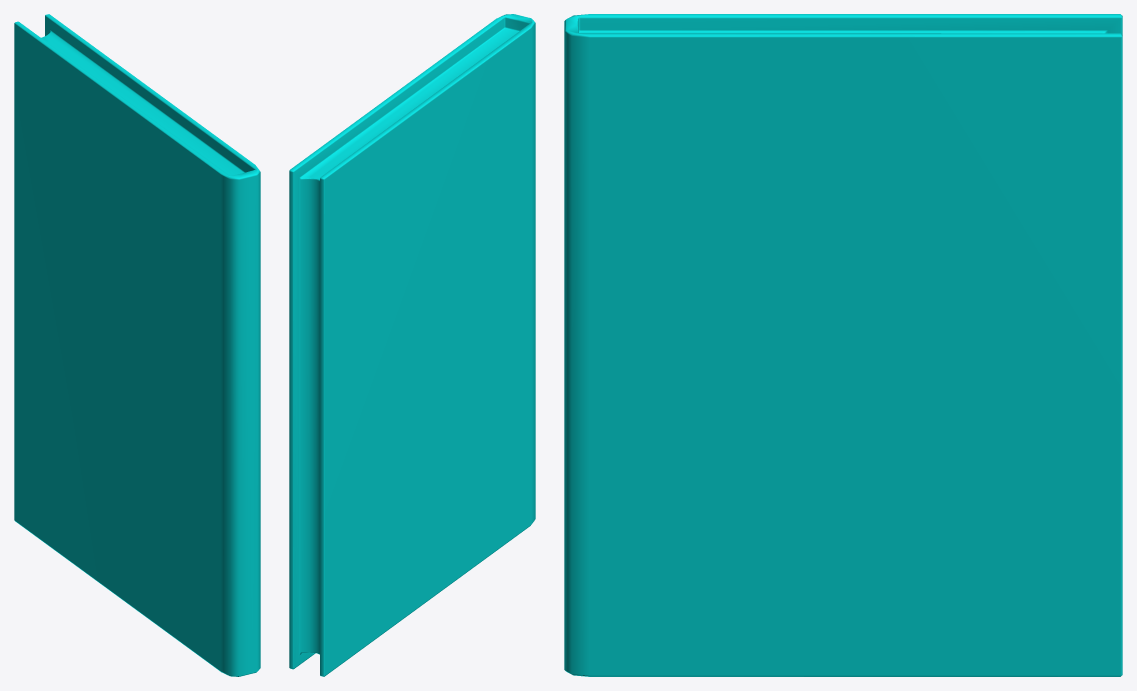
The model's file is Story_1_Bedroom_Book_S.fbx.
3 views of the same model, side by side, from view 1: azimuth 30°, elevation 25°; view 2: azimuth 150°, elevation 25°; view 3: azimuth 270°, elevation 25° (orthographic). The views are drawn at different scales.
Visible parts, largest first — view 1: Book_S; view 2: Book_S; view 3: Book_S.
Part boxes in pixels (x1,y1,x2,y2): Book_S: (14,14,260,676); Book_S: (289,14,535,676); Book_S: (564,14,1122,676).
Bounding box in the file's own units: 0.7967 × 10.68 × 8.42.
